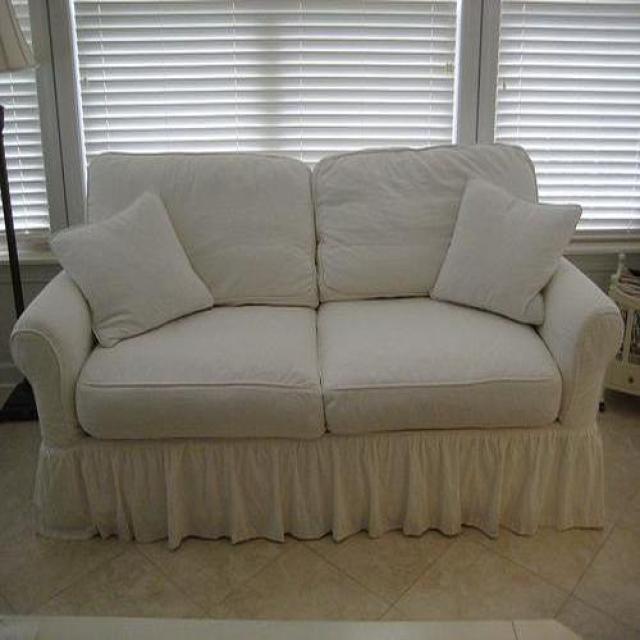sofa: (9, 145, 625, 550)
